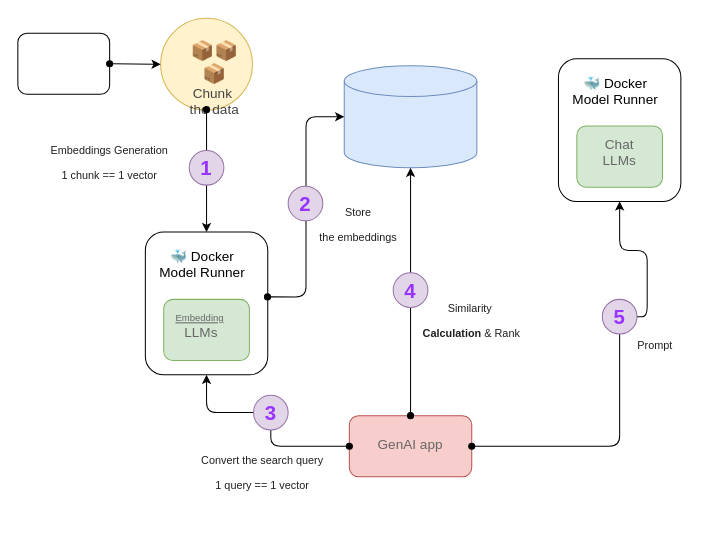
The diagram is 709 pixels wide and 549 high, and some of its shapes have lost their labels. The shapes that lost their labels are listed below. From the top down, each one's box as (x1, y1, x2, y2) in pixels, then its label:
(17, 32, 110, 94): 📝Docs
(343, 65, 477, 168): Vector Store {vector,content}
